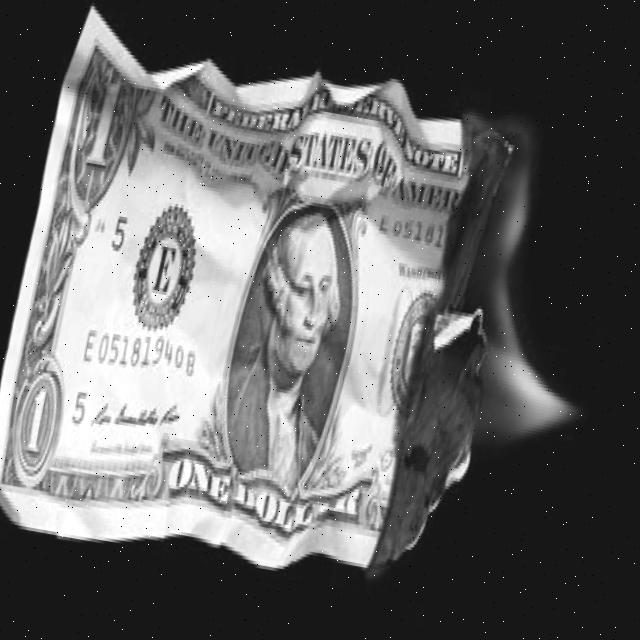banknote: (0, 4, 557, 615), (73, 64, 137, 184), (166, 446, 244, 510), (20, 376, 62, 462)
